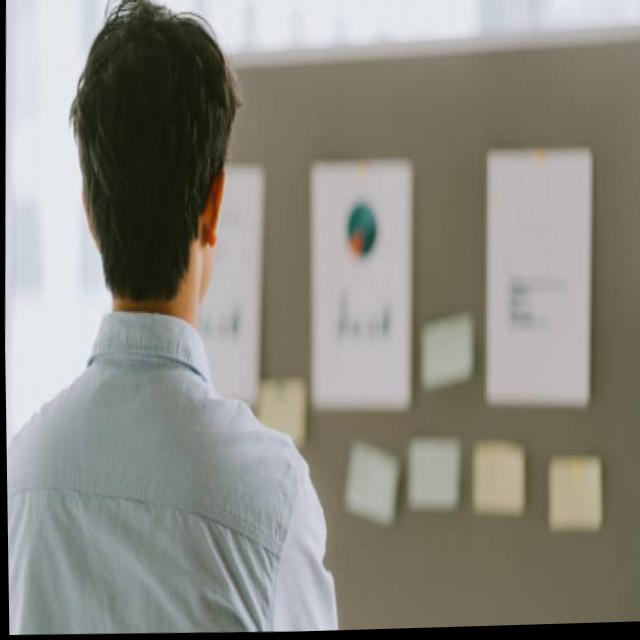no helmet: (72, 0, 240, 351)
